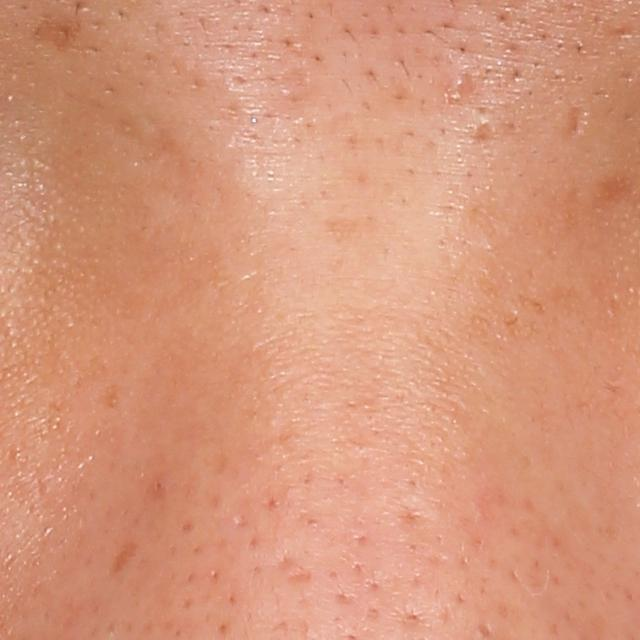atrophic_scar: (564, 103, 589, 139), (285, 563, 312, 582)
melasma: (34, 15, 83, 56), (109, 538, 140, 577)
